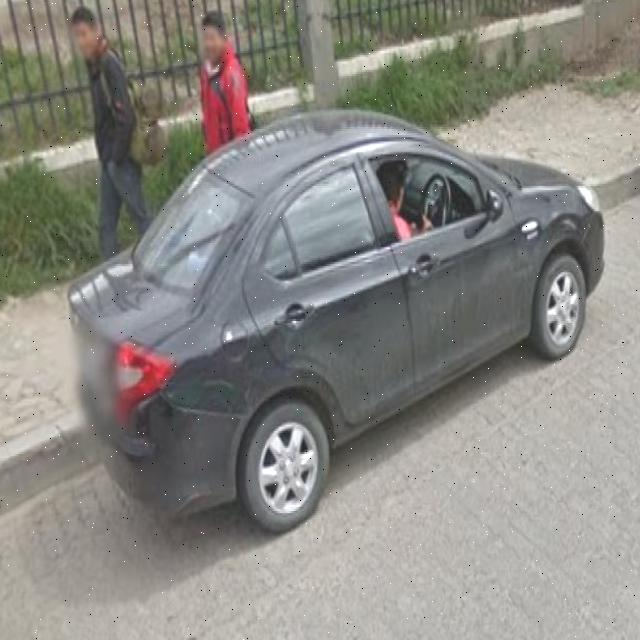car: (67, 98, 604, 534)
